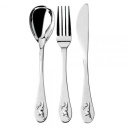fork: (53, 5, 76, 124)
